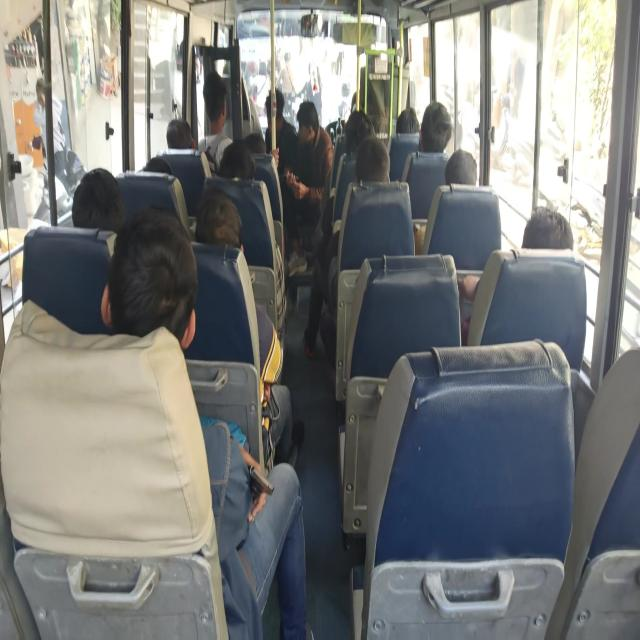person: (101, 206, 309, 638), (193, 185, 295, 468), (302, 136, 390, 364), (458, 204, 574, 344), (0, 166, 124, 290), (282, 100, 334, 274), (31, 77, 67, 178), (198, 70, 233, 172), (71, 167, 125, 232), (264, 87, 297, 175), (521, 205, 574, 250), (418, 101, 452, 153), (218, 139, 256, 179), (444, 148, 478, 186), (166, 118, 195, 148), (396, 107, 420, 134)
